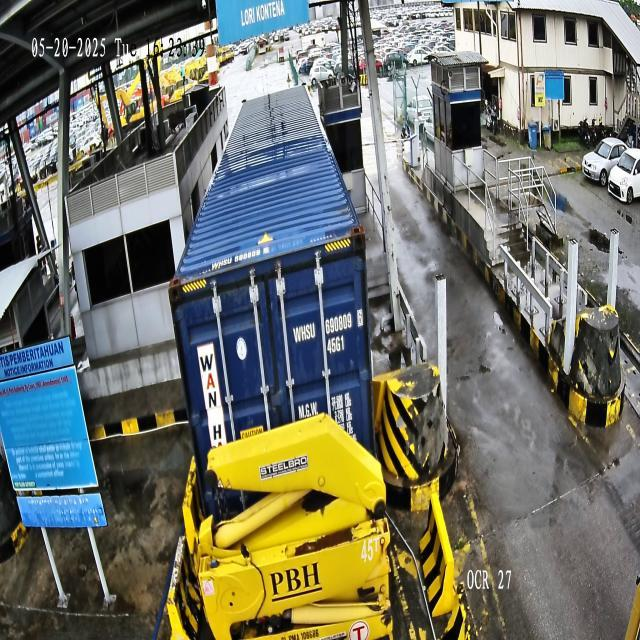ISO: (326, 334, 345, 356)
container_number: (291, 308, 364, 346)
